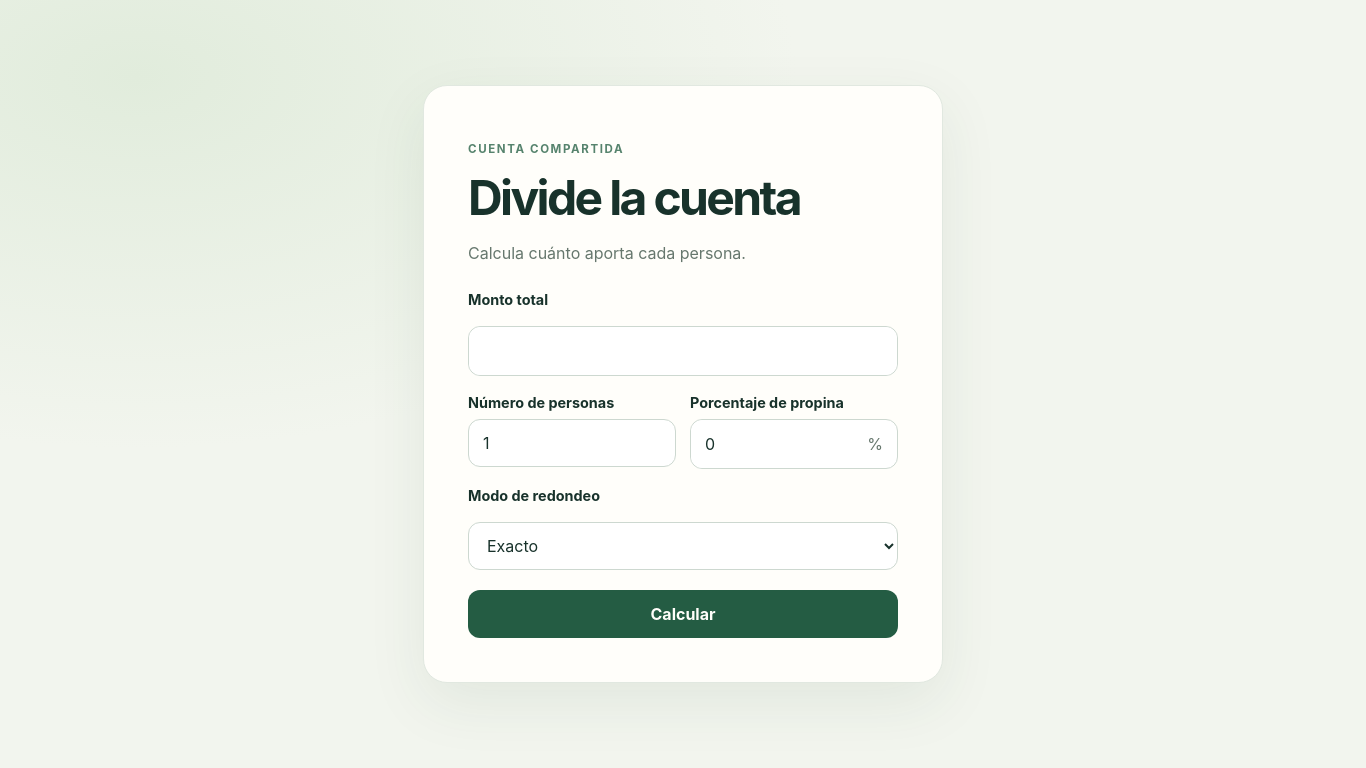
PantallaDivisor: entradas inválidas › oculta un resultado anterior cuando el nuevo cálculo es inválido
In the field labelled "Monto total": (683, 350) [469,326,897,374], type "90"
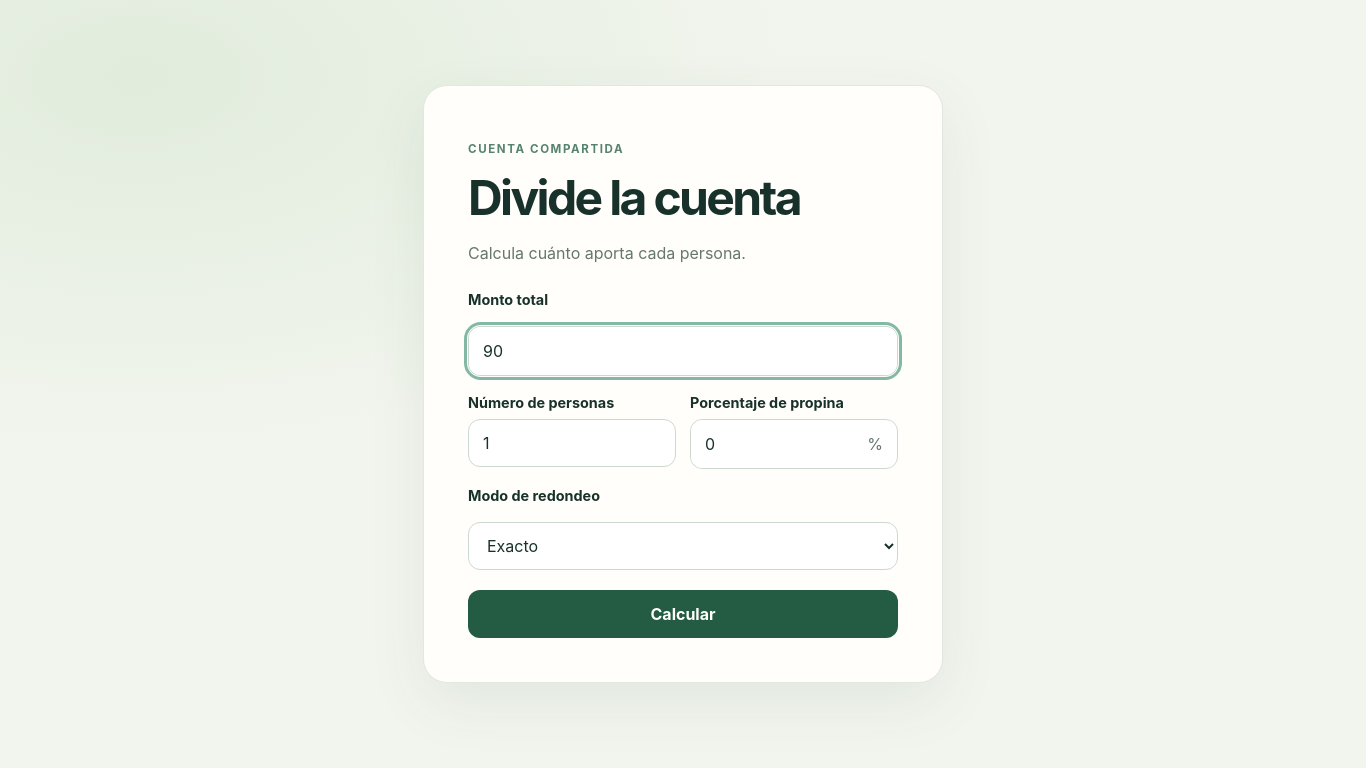
Replace the text in the field labelled "Número de personas" with "3": (572, 442) [468,418,676,466]
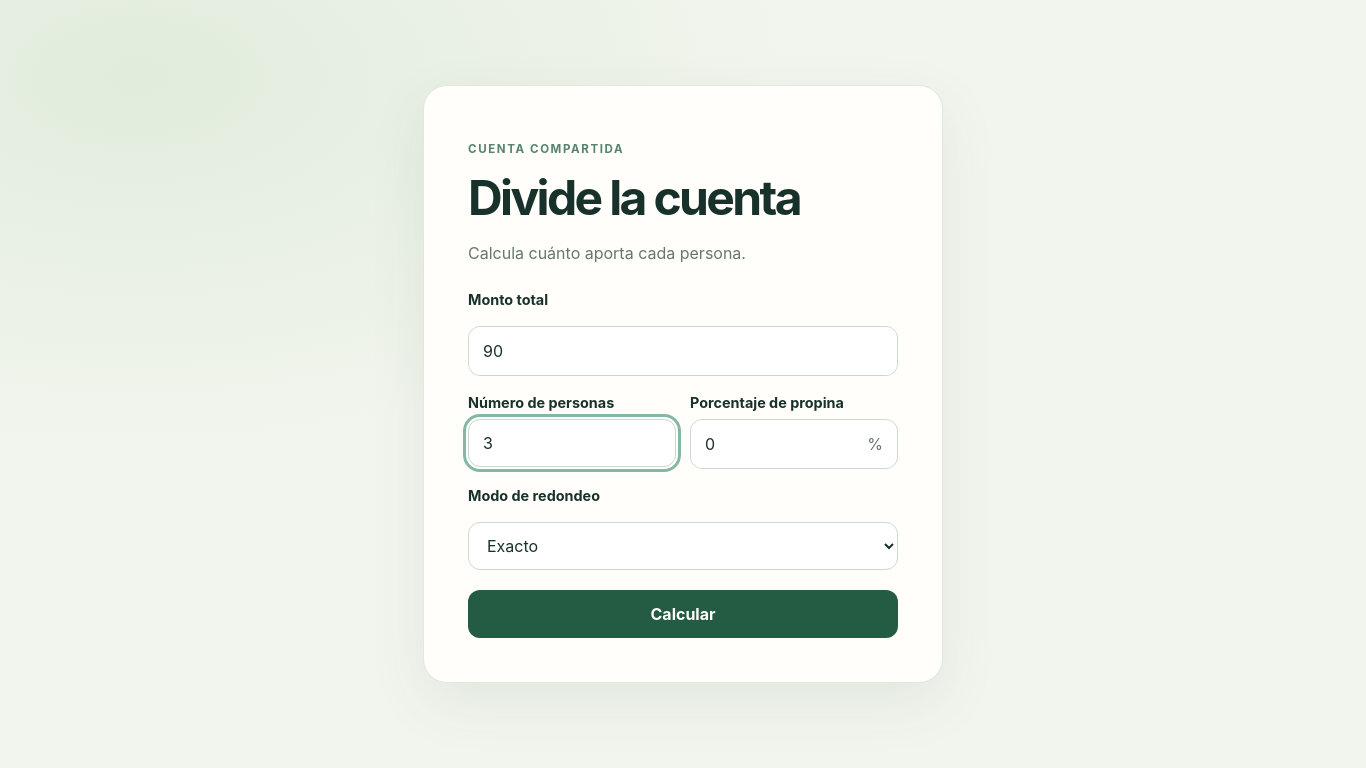
Click the button "Calcular": click(683, 614) [468,590,898,638]
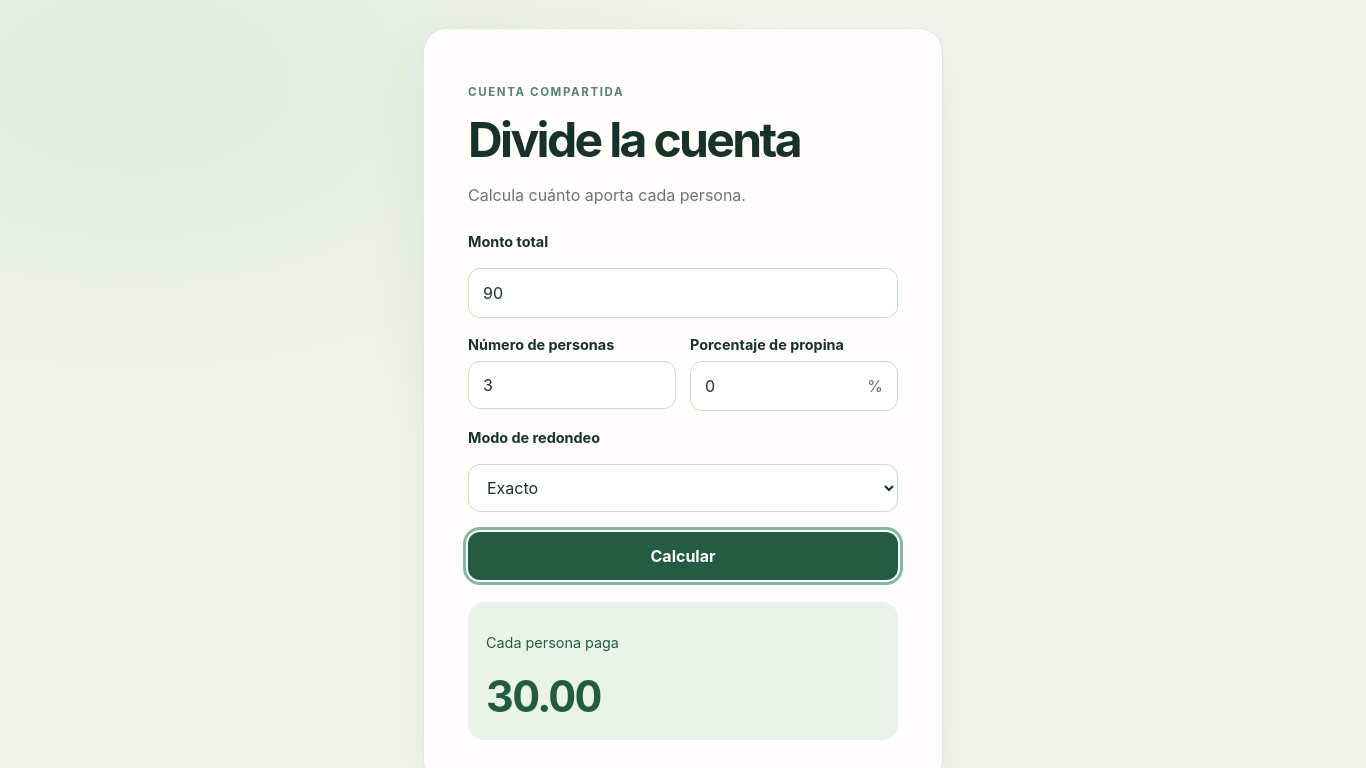
Expected: the message reads "30.00", [486,670,601,722]
Replace the text in the field labelled "Número de personas" with "0": (572, 385) [468,361,676,409]
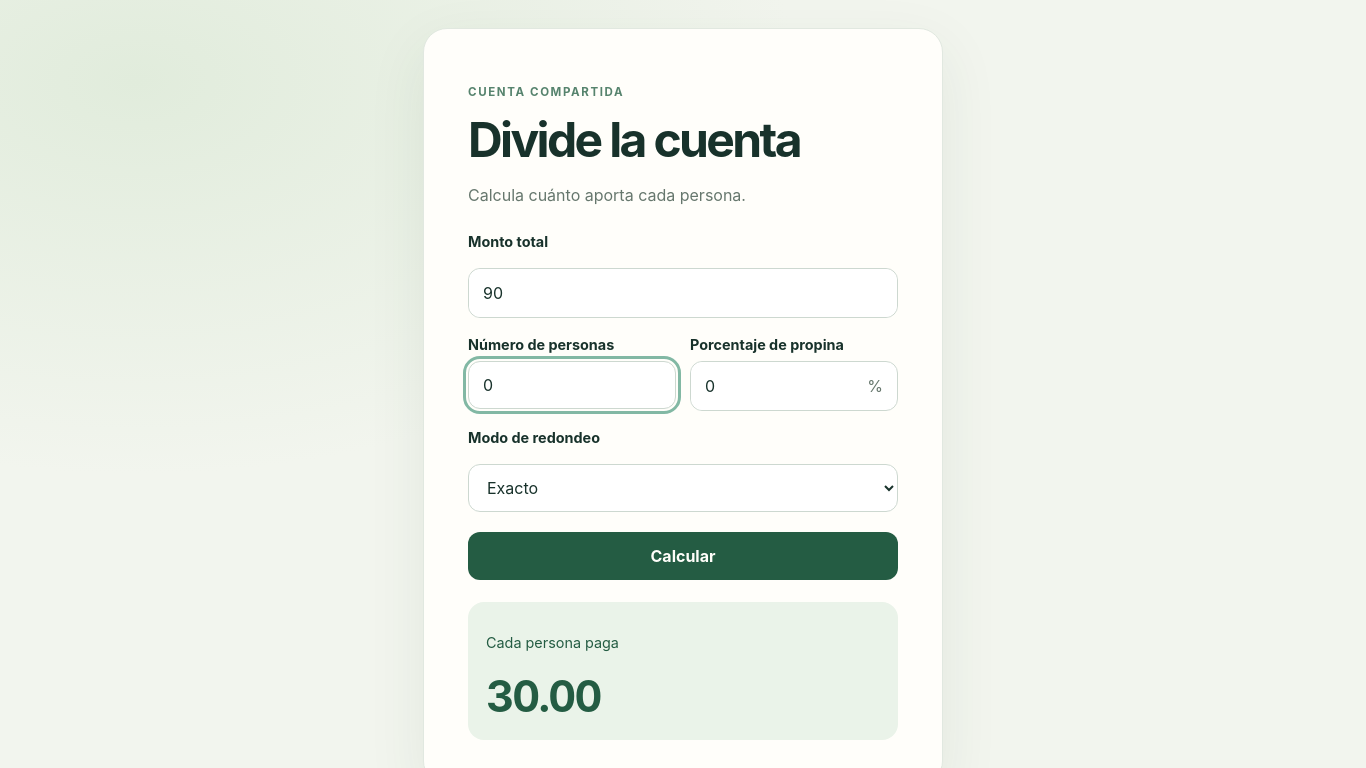
Click the button "Calcular": click(683, 556) [468,532,898,580]
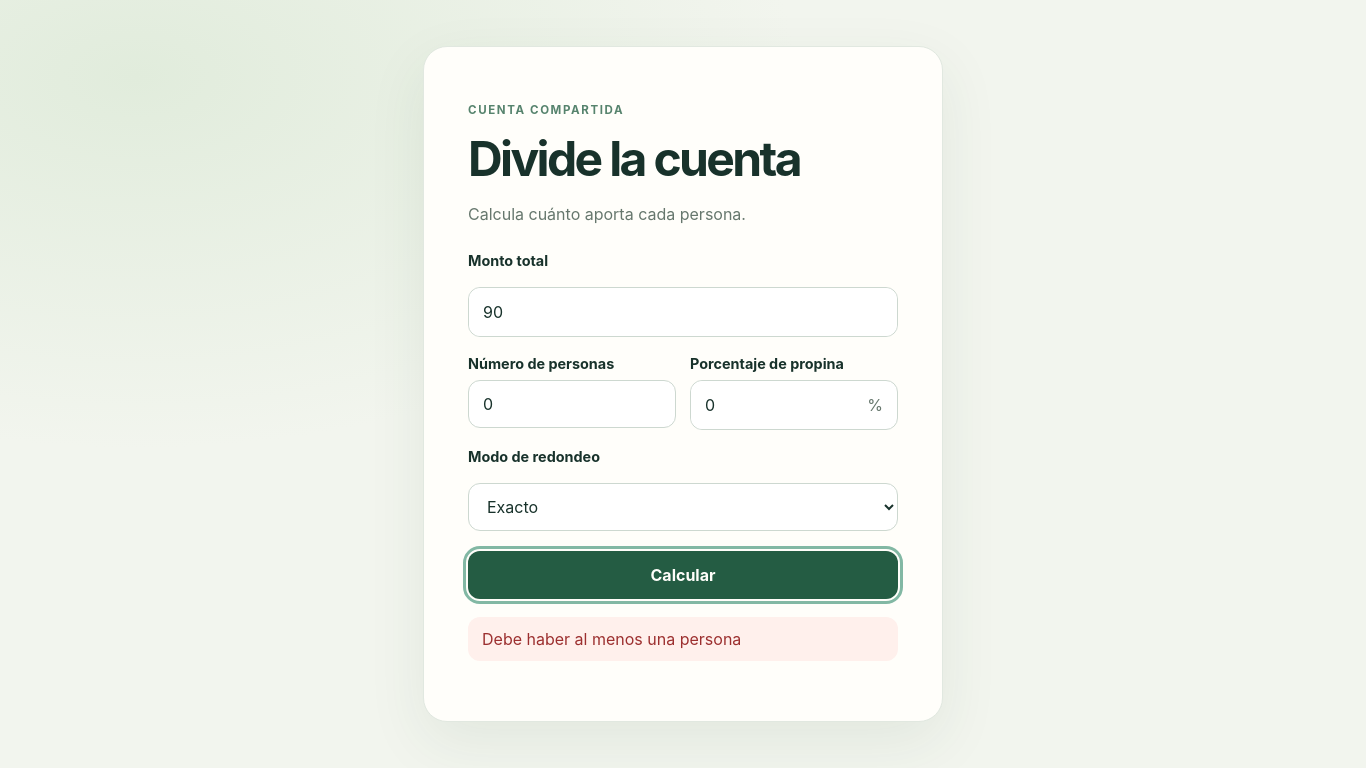
Expected: the message reads "Debe haber al menos una persona", [482,628,741,648]
